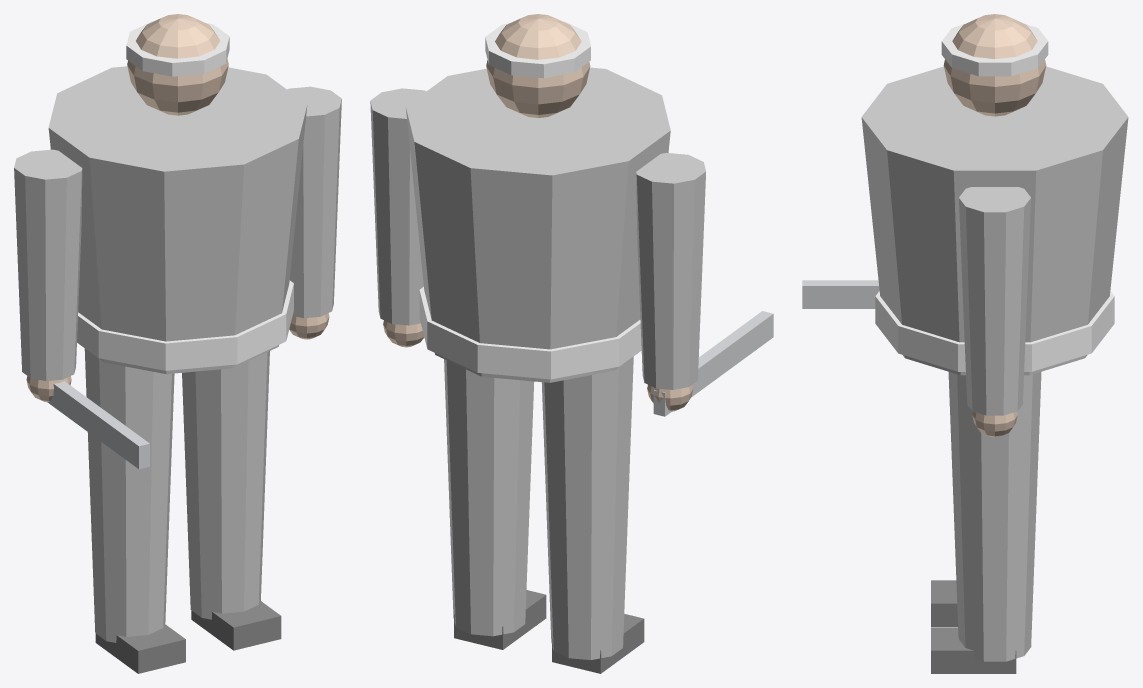
3 views of the same model, side by side, from view 1: azimuth 30°, elevation 25°; view 2: azimuth 150°, elevation 25°; view 3: azimuth 270°, elevation 25° (orthographic). The views are drawn at different scales.
Visible parts, largest first — view 1: torso, thighR, thighL, armR, armL, belt, head, sword, footL, footR, band, handL (+1 smaller); view 2: torso, thighR, thighL, armR, armL, belt, head, sword, band, footL, footR, handL (+1 smaller); view 3: torso, thighL, armL, head, belt, band, footL, sword, footR, handL.
Part boxes in pixels (left/top/right/bottom): torso: left=48, top=66, right=307, bottom=374; thighR: left=84, top=348, right=174, bottom=642; thighL: left=182, top=351, right=269, bottom=619; armR: left=14, top=149, right=82, bottom=380; armL: left=287, top=86, right=341, bottom=318; belt: left=77, top=280, right=293, bottom=370; head: left=127, top=14, right=228, bottom=115; sword: left=47, top=381, right=149, bottom=469; footL: left=191, top=600, right=281, bottom=650; footR: left=95, top=624, right=185, bottom=673; band: left=126, top=21, right=229, bottom=76; handL: left=289, top=313, right=329, bottom=339; torso: left=405, top=67, right=670, bottom=382; thighR: left=541, top=356, right=633, bottom=659; thighL: left=444, top=359, right=534, bottom=636; armR: left=636, top=153, right=705, bottom=389; armL: left=370, top=88, right=426, bottom=325; belt: left=419, top=287, right=641, bottom=379; head: left=486, top=14, right=590, bottom=117; sword: left=653, top=311, right=773, bottom=416; band: left=485, top=21, right=590, bottom=78; footL: left=454, top=590, right=546, bottom=649; footR: left=552, top=614, right=644, bottom=673; handL: left=383, top=320, right=424, bottom=347; torso: left=861, top=66, right=1128, bottom=375; thighL: left=948, top=371, right=1041, bottom=661; armL: left=959, top=187, right=1030, bottom=415; head: left=943, top=14, right=1046, bottom=116; belt: left=875, top=291, right=1114, bottom=371; band: left=941, top=24, right=1048, bottom=76; footL: left=931, top=627, right=1016, bottom=673; sword: left=802, top=280, right=879, bottom=308; footR: left=931, top=580, right=957, bottom=626; handL: left=972, top=411, right=1017, bottom=437.
Bounding box in the file's own units: 0.8627 × 1.6 × 0.762.
